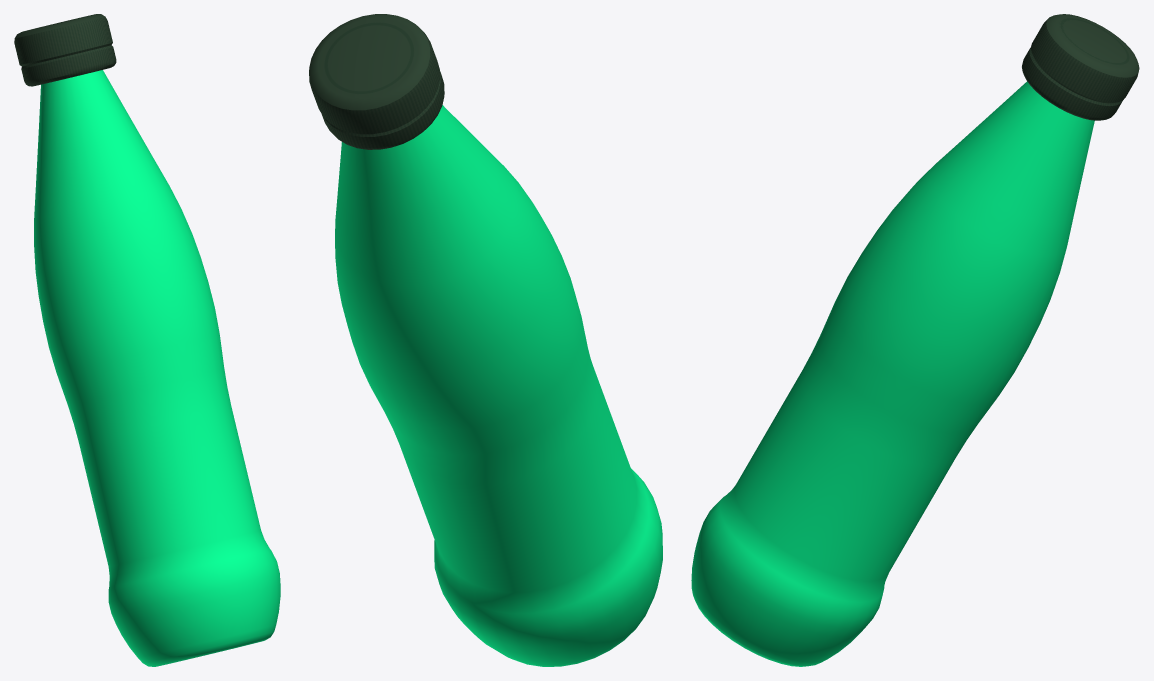
Rendered from Bottle 1.fbx.
3 views of the same model, side by side, from view 1: azimuth 30°, elevation 25°; view 2: azimuth 150°, elevation 25°; view 3: azimuth 270°, elevation 25° (orthographic). The views are drawn at different scales.
Visible parts, largest first — view 1: Cylinder; view 2: Cylinder; view 3: Cylinder.
Boxes of the visible parts, bbox=[...] form: Cylinder: bbox=[14, 14, 280, 666]; Cylinder: bbox=[309, 14, 662, 666]; Cylinder: bbox=[691, 14, 1139, 666].
Size of the model in its own units: 65.91 by 235 by 151.
